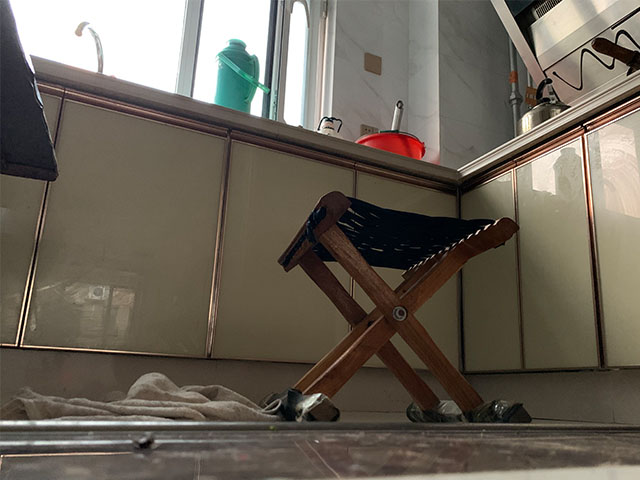cabinet: (41, 60, 463, 427), (450, 100, 640, 432)
stool: (259, 190, 534, 424)
